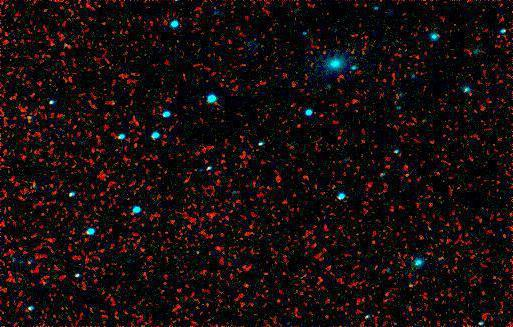star: (392, 161, 422, 191)
